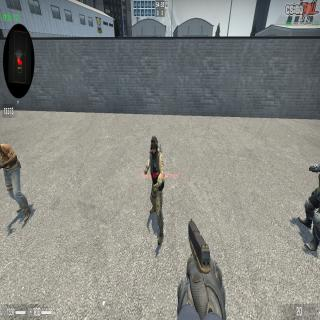CT-Body: (145, 136, 164, 247)
CT-Head: (150, 137, 158, 157)
T-Body: (1, 143, 32, 223)
